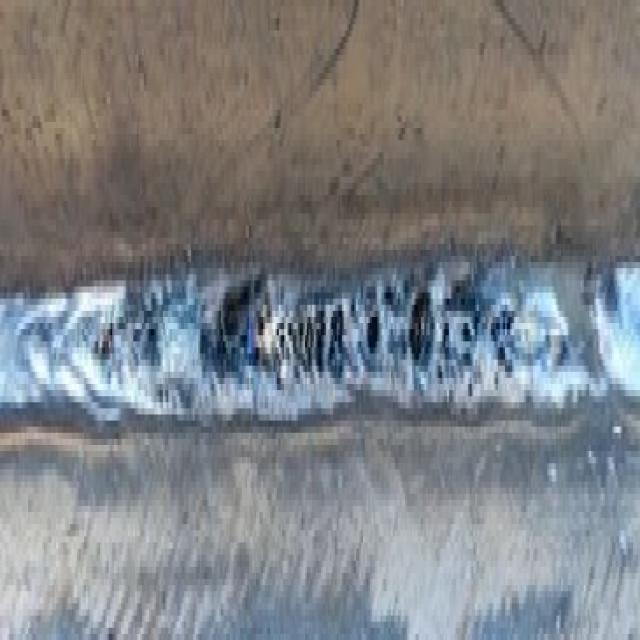Porosity: (4, 226, 632, 441)
